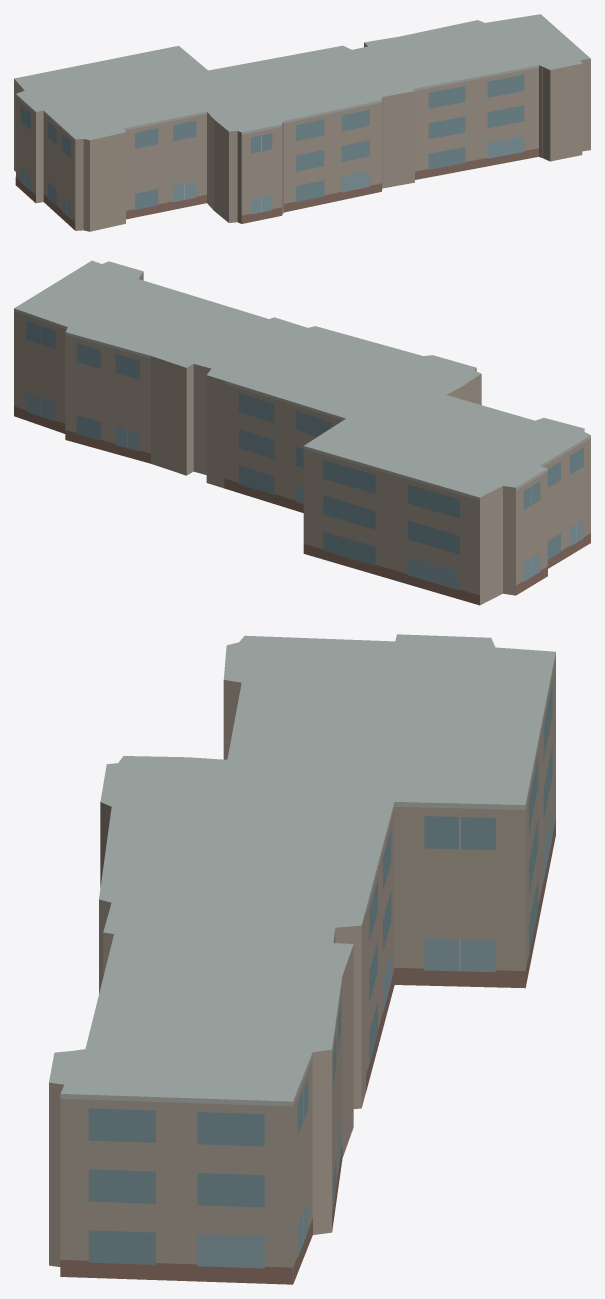
Rendered from survey-upis-32469404.glb.
3 views of the same model, one above another, from view 1: azimuth 30°, elevation 25°; view 2: azimuth 150°, elevation 25°; view 3: azimuth 270°, elevation 25° (orthographic). The views are drawn at different scales.
Parts seen in each view (by area): view 1: survey-upis-32469404.tmp; view 2: survey-upis-32469404.tmp; view 3: survey-upis-32469404.tmp.
Boxes of the visible parts, x1,y1,x2,y2 form: survey-upis-32469404.tmp: (14, 14, 590, 231); survey-upis-32469404.tmp: (14, 260, 590, 605); survey-upis-32469404.tmp: (49, 634, 555, 1284).
Size of the model in its own units: 50.12 by 9.15 by 22.98.
